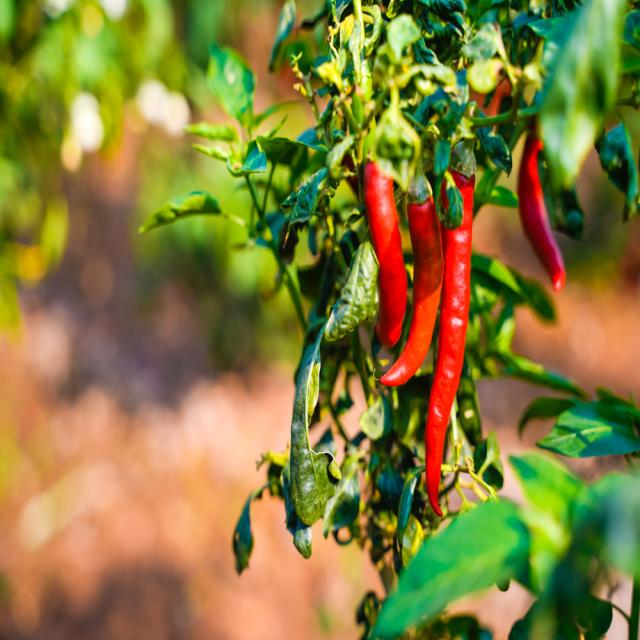Ripe: (425, 171, 475, 514), (381, 187, 444, 386), (364, 161, 408, 348), (518, 135, 566, 291)
